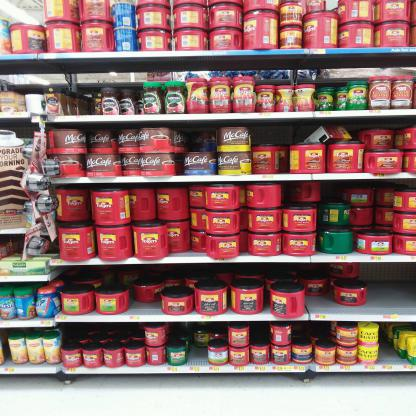Void: (369, 264, 409, 309), (253, 126, 293, 144), (134, 301, 158, 318), (190, 350, 207, 362), (381, 349, 395, 362)
